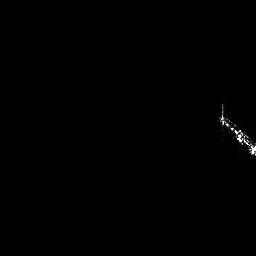ship: (218, 116, 256, 156)
